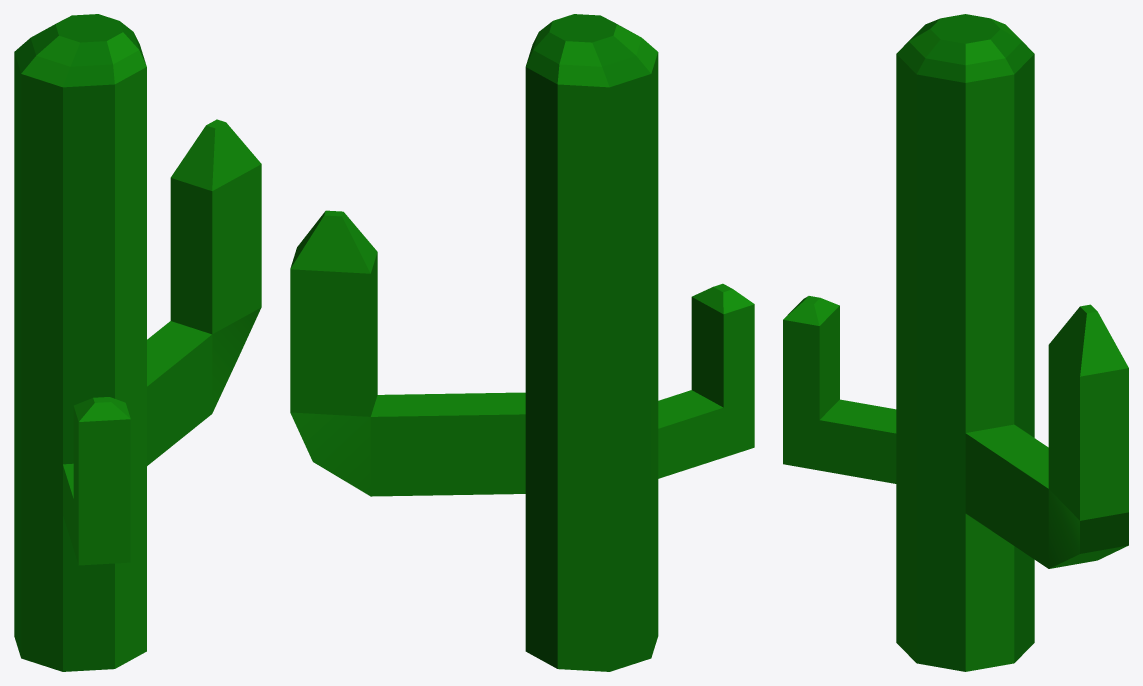
The model's file is low_poly_cactus.obj.
3 renders of one model, left to right at view 1: azimuth 30°, elevation 25°; view 2: azimuth 150°, elevation 25°; view 3: azimuth 270°, elevation 25°, orthographic.
Parts seen in each view (by area): view 1: Cylinder_Cylinder_Green1, Cylinder_Cylinder_Green2; view 2: Cylinder_Cylinder_Green1, Cylinder_Cylinder_Green2; view 3: Cylinder_Cylinder_Green1, Cylinder_Cylinder_Green2.
Boxes of the visible parts, <box> form: Cylinder_Cylinder_Green1: <box>21,18,261,671</box>; Cylinder_Cylinder_Green2: <box>14,14,146,671</box>; Cylinder_Cylinder_Green1: <box>290,21,754,671</box>; Cylinder_Cylinder_Green2: <box>525,14,651,671</box>; Cylinder_Cylinder_Green1: <box>783,18,1128,671</box>; Cylinder_Cylinder_Green2: <box>904,14,1034,671</box>.
Size of the model in its own units: 4.02 by 7.36 by 3.74.
